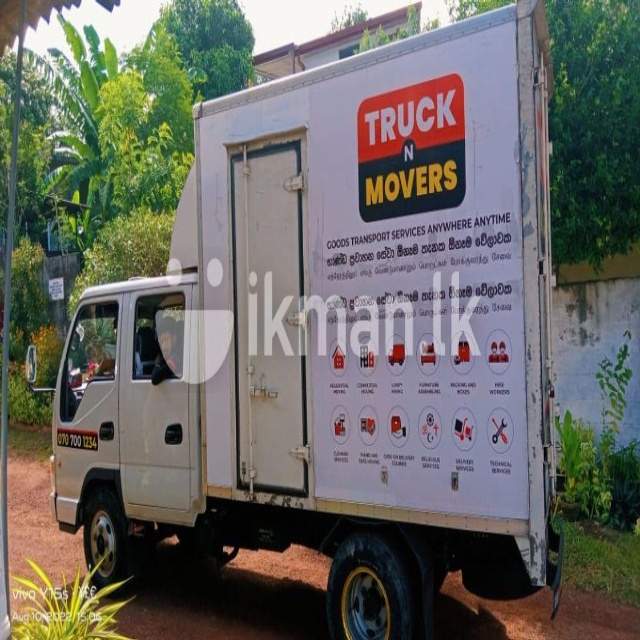Truck: (26, 1, 562, 640)
